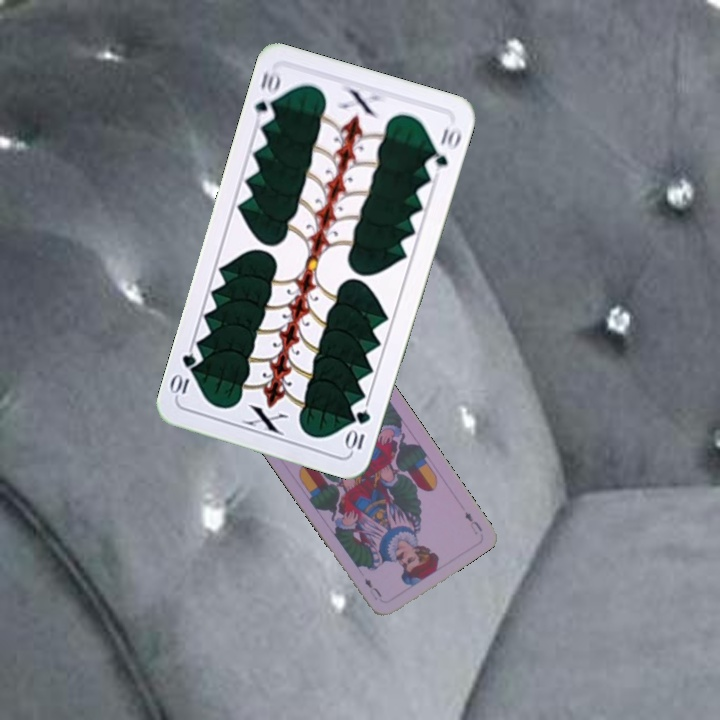EU: (461, 507, 485, 537)
G10: (250, 65, 283, 126), (343, 406, 373, 454)
